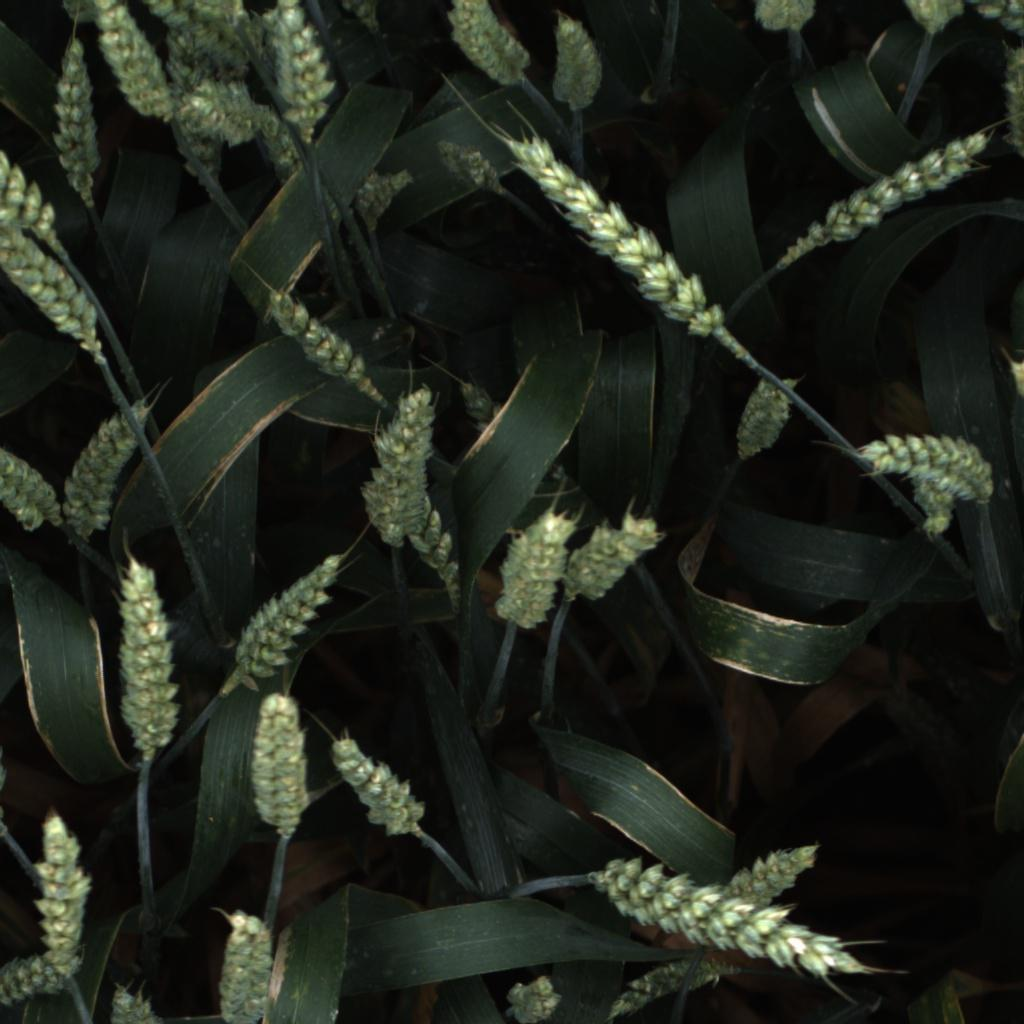0-0: (495, 126, 725, 337), (590, 854, 878, 984), (781, 124, 984, 263), (103, 544, 190, 762), (223, 539, 348, 686), (0, 214, 102, 368), (59, 398, 154, 546), (26, 800, 109, 969), (356, 384, 438, 545), (260, 279, 370, 390), (329, 719, 433, 835), (854, 422, 998, 501), (490, 499, 574, 633), (47, 36, 110, 213), (245, 690, 319, 838), (94, 0, 175, 130), (161, 33, 223, 199), (597, 958, 735, 1024), (271, 8, 337, 146), (209, 901, 281, 1024), (571, 506, 664, 601), (143, 0, 248, 79), (440, 0, 533, 89), (721, 379, 811, 466), (541, 18, 615, 123), (396, 486, 464, 598), (0, 142, 64, 249), (0, 425, 64, 531), (727, 830, 823, 899), (179, 80, 274, 149), (0, 945, 83, 1018), (346, 161, 416, 240), (988, 34, 1024, 169), (498, 965, 572, 1024), (434, 136, 502, 194), (258, 114, 308, 185), (105, 977, 174, 1024), (908, 477, 958, 537), (456, 378, 503, 436), (900, 0, 965, 38), (750, 0, 816, 37), (966, 0, 1024, 37), (257, 9, 286, 73), (188, 0, 247, 31), (338, 0, 382, 29), (62, 0, 108, 25), (1007, 359, 1023, 400)
